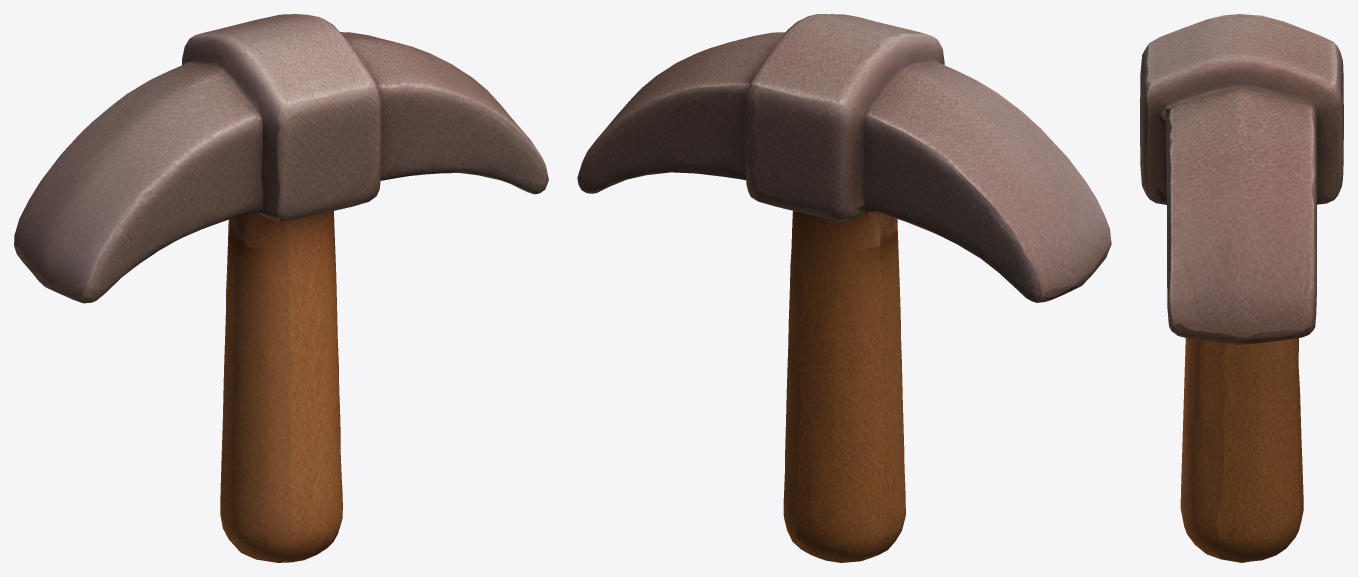
The model's file is mine-pickaxe.glb.
3 views of the same model, side by side, from view 1: azimuth 30°, elevation 25°; view 2: azimuth 150°, elevation 25°; view 3: azimuth 270°, elevation 25° (orthographic).
Parts seen in each view (by area): view 1: world; view 2: world; view 3: world.
Part boxes in pixels (x1,y1,x2,y2): world: (14, 14, 548, 562); world: (577, 14, 1111, 562); world: (1140, 14, 1343, 562).
Size of the model in its own units: 0.968 by 0.9978 by 0.3573.
Materials: 1 (1 with a texture image).
